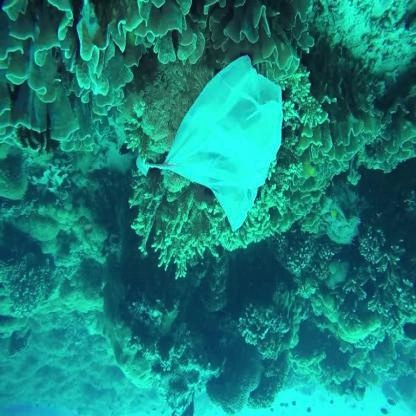pbag: (137, 55, 283, 232)
